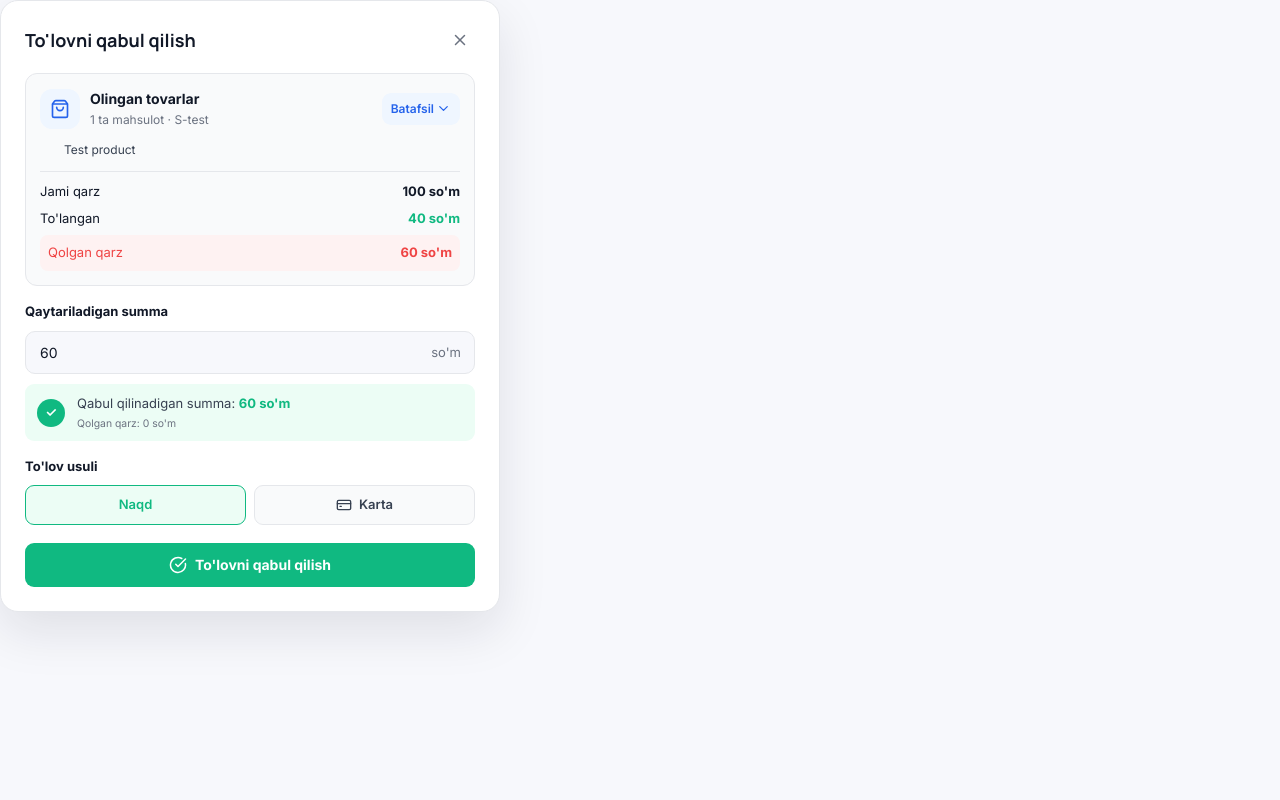
Scenario: customer debt payments cap the amount at the outstanding balance
The width and height of the screenshot is (1280, 800).
expect the field holds "60": met, box [25, 331, 475, 374]
expect the text "Qolgan qarz: 0 so'm" is shown: met, box [77, 416, 176, 430]
Click the button with class "customer-payment-submit": (250, 565) [25, 543, 475, 587]
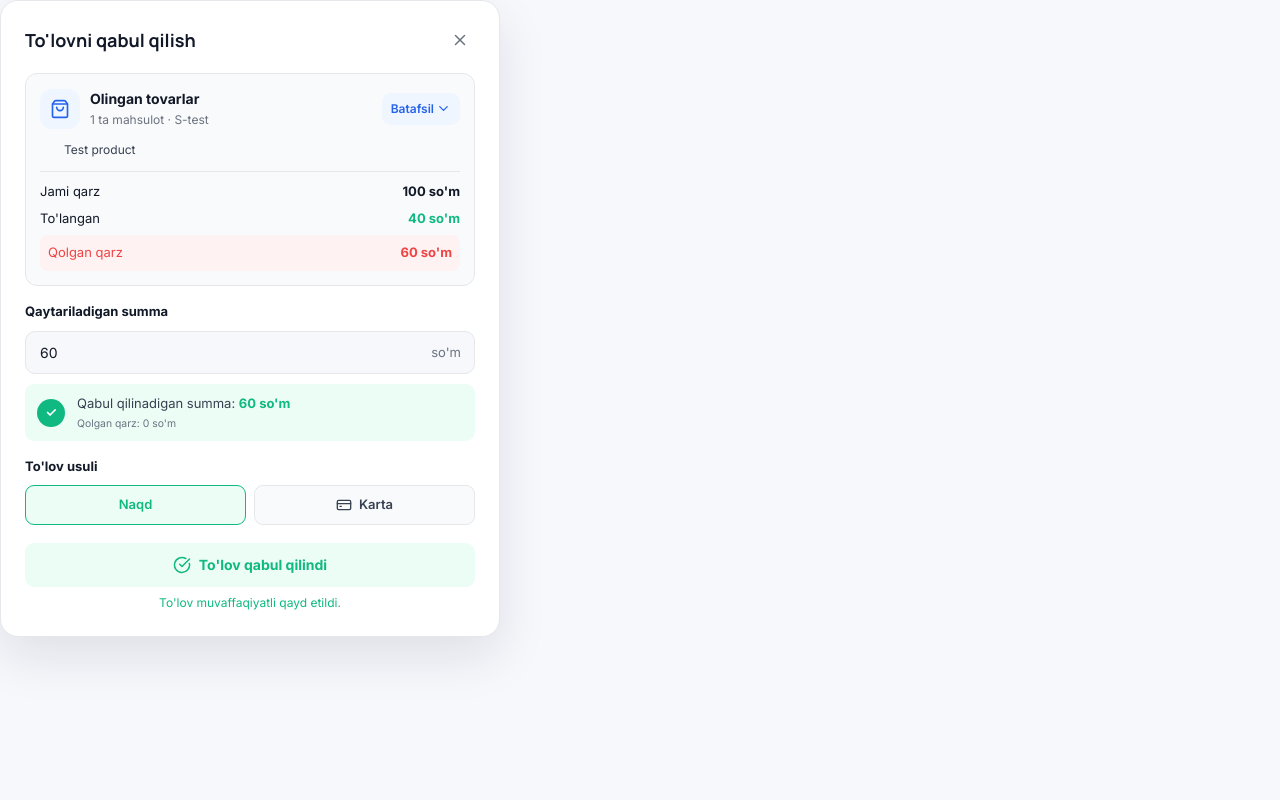
expect the button with class "customer-payment-submit" is disabled: met, box [25, 543, 475, 587]
